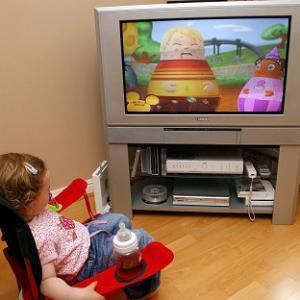person: (2, 154, 155, 300)
